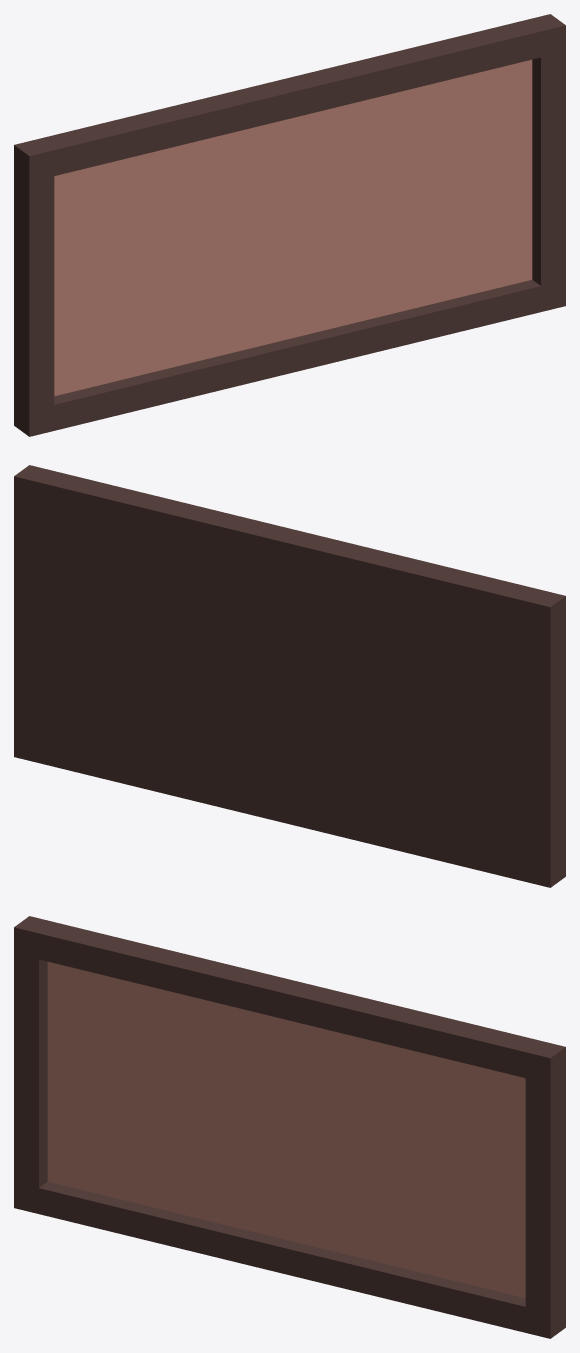
The model's file is sign_wall_001.fbx.
3 views of the same model, one above another, from view 1: azimuth 30°, elevation 25°; view 2: azimuth 150°, elevation 25°; view 3: azimuth 330°, elevation 25° (orthographic).
Visible parts, largest first — view 1: sign.wall.001; view 2: sign.wall.001; view 3: sign.wall.001.
Boxes of the visible parts, x1,y1,x2,y2 form: sign.wall.001: [14, 14, 565, 436]; sign.wall.001: [14, 465, 565, 887]; sign.wall.001: [14, 916, 565, 1338].
Bounding box in the file's own units: 200 × 100 × 10.
